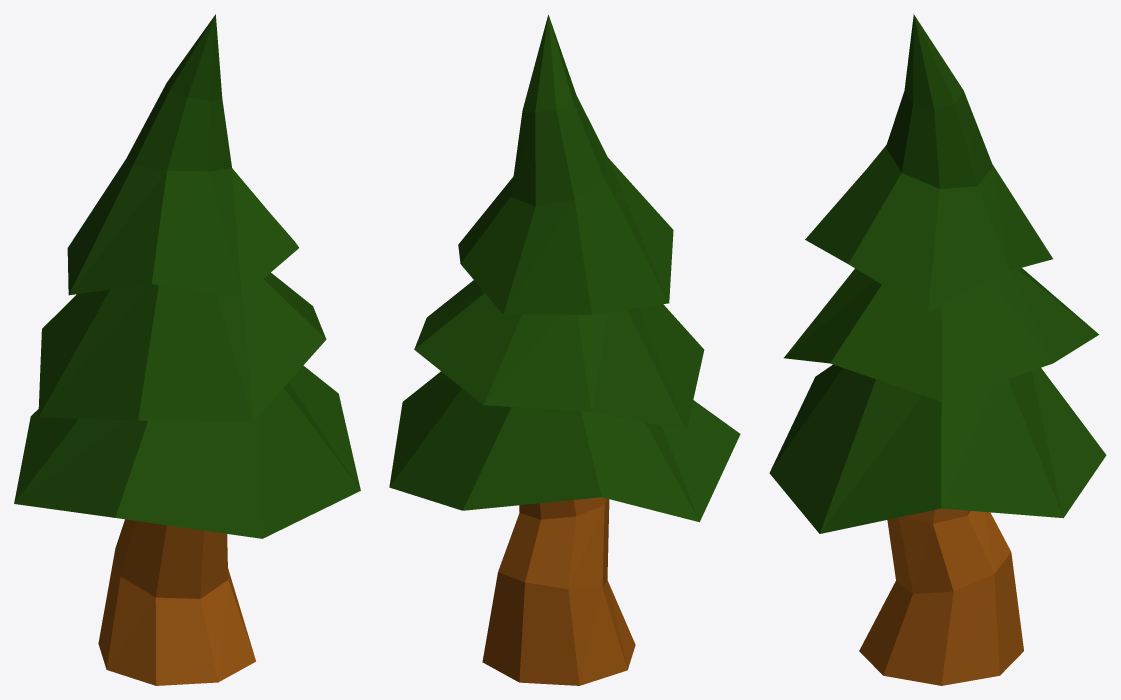
Rendered from tree.obj.
The picture shows the model from 3 angles, left to right: view 1: azimuth 30°, elevation 25°; view 2: azimuth 150°, elevation 25°; view 3: azimuth 270°, elevation 25°; orthographic projection. The views are drawn at different scales.
Visible parts, largest first — view 1: Circle.001; view 2: Circle.001; view 3: Circle.001.
Part boxes in pixels (<box>): Circle.001: <box>14,14,360,685</box>; Circle.001: <box>389,14,740,685</box>; Circle.001: <box>769,14,1106,685</box>.
Bounding box in the file's own units: 1.37 × 2.66 × 1.25.
